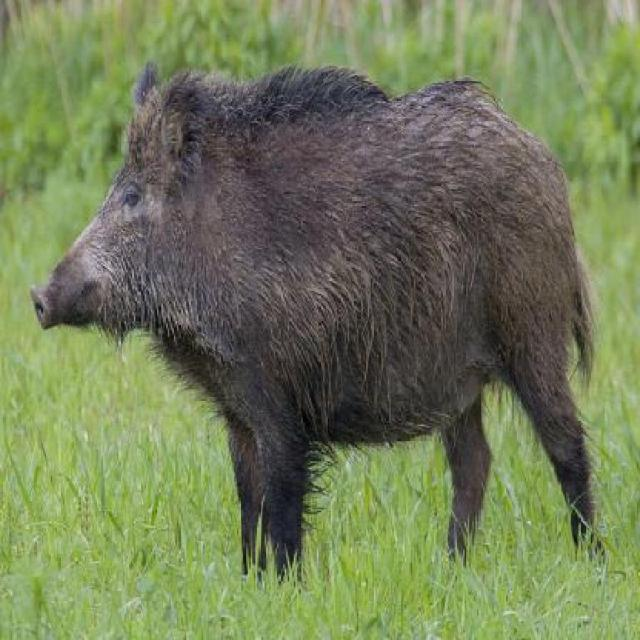wildboar: (23, 58, 608, 594)
